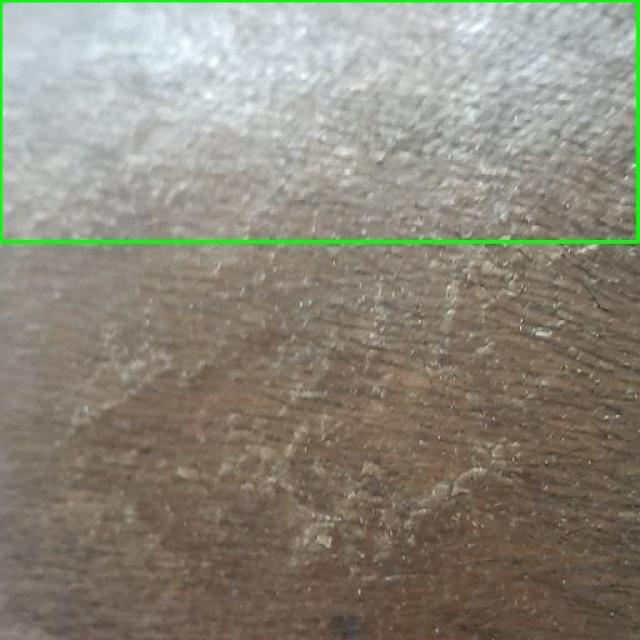Seborrheic Dermatitis: (0, 0, 639, 242)
